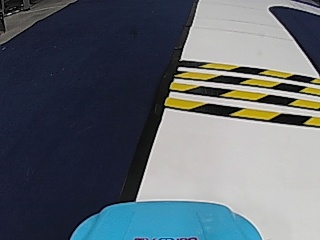bump: (186, 61, 307, 125)
